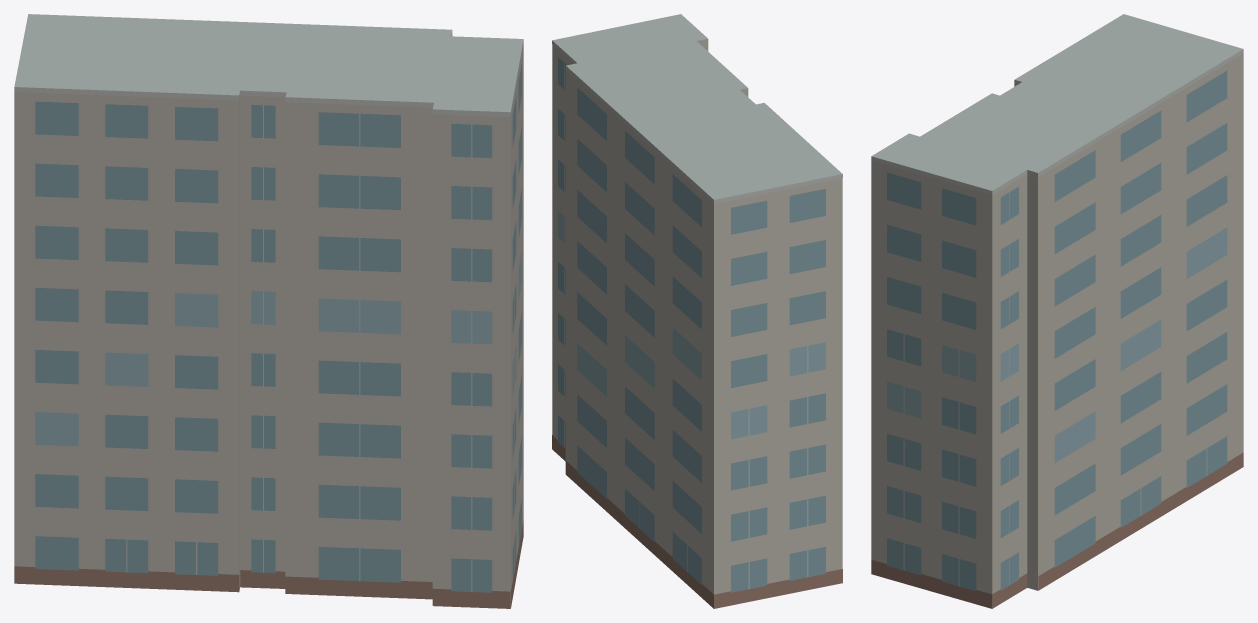
Rendered from survey-upis-32925503.glb.
3 renders of one model, left to right at view 1: azimuth 30°, elevation 25°; view 2: azimuth 150°, elevation 25°; view 3: azimuth 270°, elevation 25°, orthographic. The views are drawn at different scales.
Visible parts, largest first — view 1: survey-upis-32925503.tmp; view 2: survey-upis-32925503.tmp; view 3: survey-upis-32925503.tmp.
Boxes of the visible parts, box(x1,y1,x2,y2) form: survey-upis-32925503.tmp: box(14, 14, 523, 608); survey-upis-32925503.tmp: box(552, 14, 842, 608); survey-upis-32925503.tmp: box(871, 14, 1243, 608).
Size of the model in its own units: 22.17 by 24.4 by 19.71.
